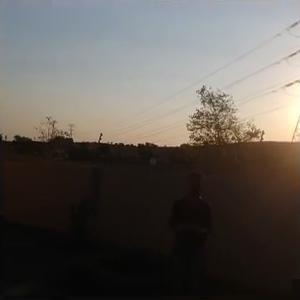follow: (161, 165, 216, 298)
